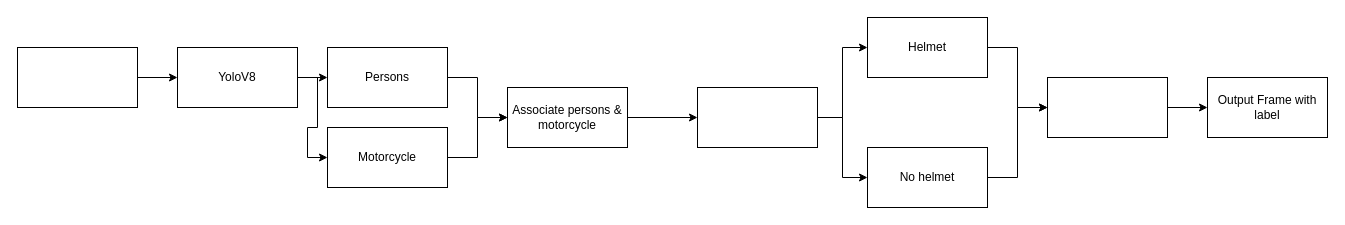
Image size: 1345x225. Some labels were removed from this diagram. Each missing label, with the box of its shape:
Frame: (16, 46, 138, 108)
Labeled Violator: (1046, 76, 1168, 138)
ResNet 18: (696, 86, 818, 148)
